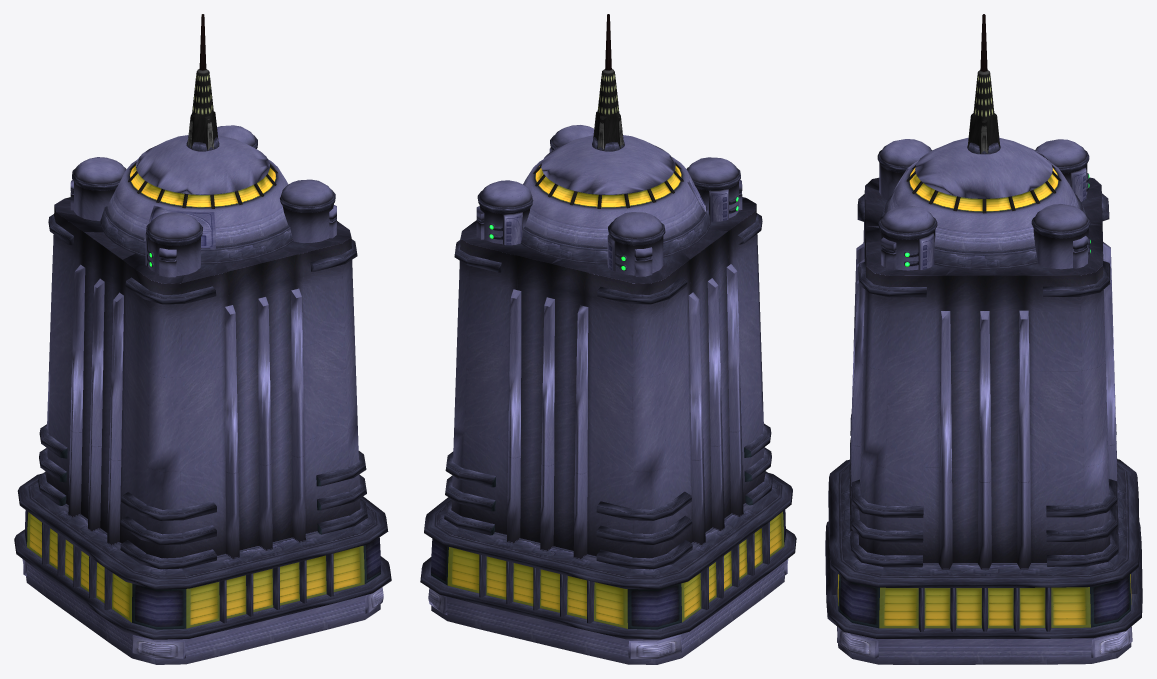
File: predio02.glb
3 renders of one model, left to right at view 1: azimuth 30°, elevation 25°; view 2: azimuth 150°, elevation 25°; view 3: azimuth 270°, elevation 25°, orthographic. The views are drawn at different scales.
Visible parts, largest first — view 1: Object_Ties.004; view 2: Object_Ties.004; view 3: Object_Ties.004.
Part boxes in pixels (x1,y1,x2,y2): Object_Ties.004: [14, 14, 391, 664]; Object_Ties.004: [420, 14, 796, 664]; Object_Ties.004: [825, 14, 1142, 664].
Size of the model in its own units: 24.88 by 50.86 by 24.88.
26 materials, 26 textured.
